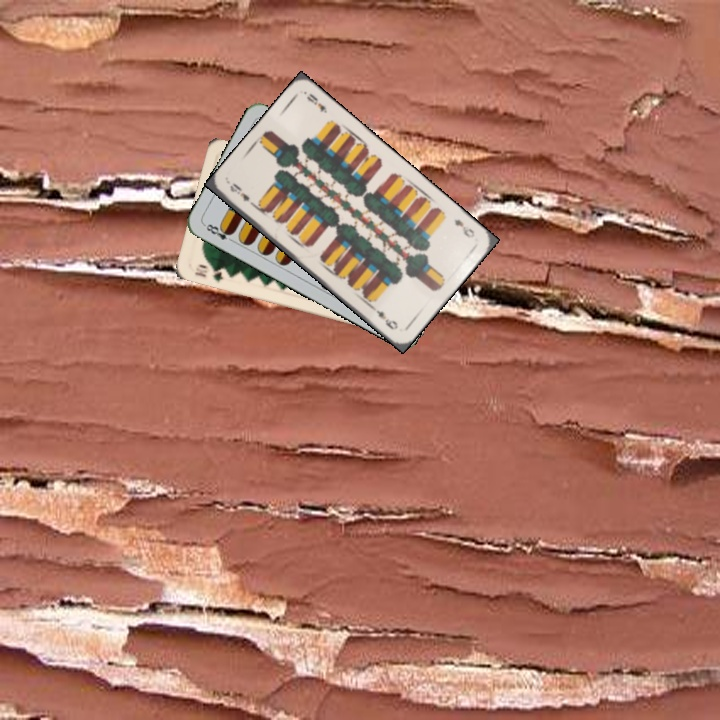E8: (200, 220, 237, 245)
E9: (226, 179, 259, 210), (450, 215, 477, 240)
G10: (191, 260, 226, 286)
